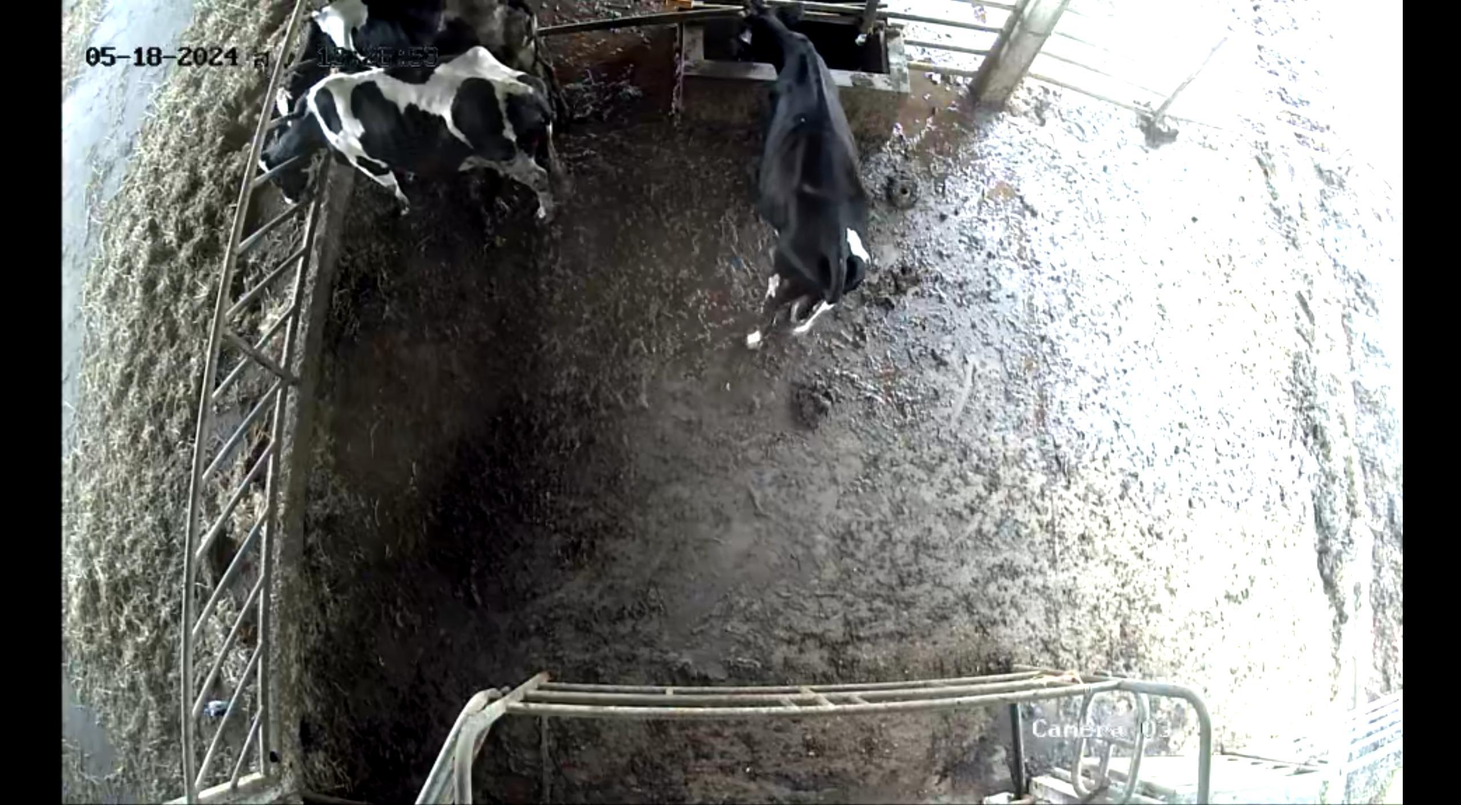drink: (719, 0, 821, 107)
eat: (239, 90, 367, 223), (252, 1, 362, 108)
